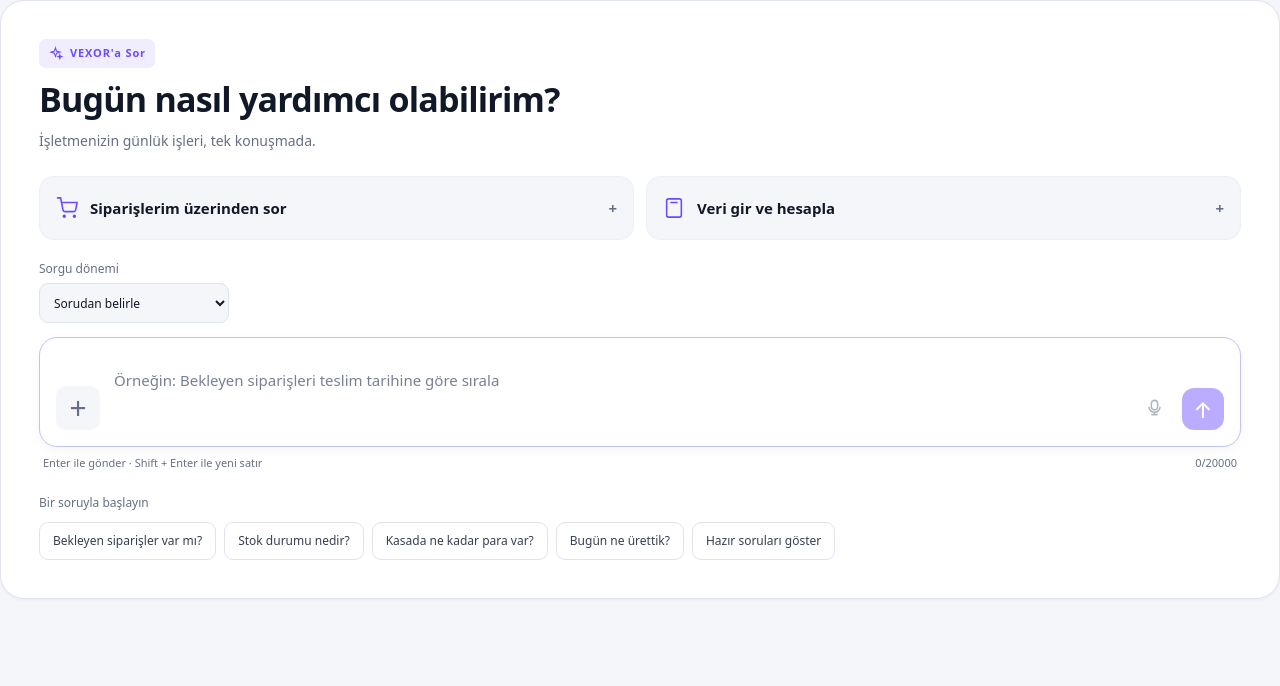
it: keeps previous answers and the conversation id across follow-up questions
Type "First question" into the text box at coordinates (617, 392), box [110,364,1124,420]
Then press Enter
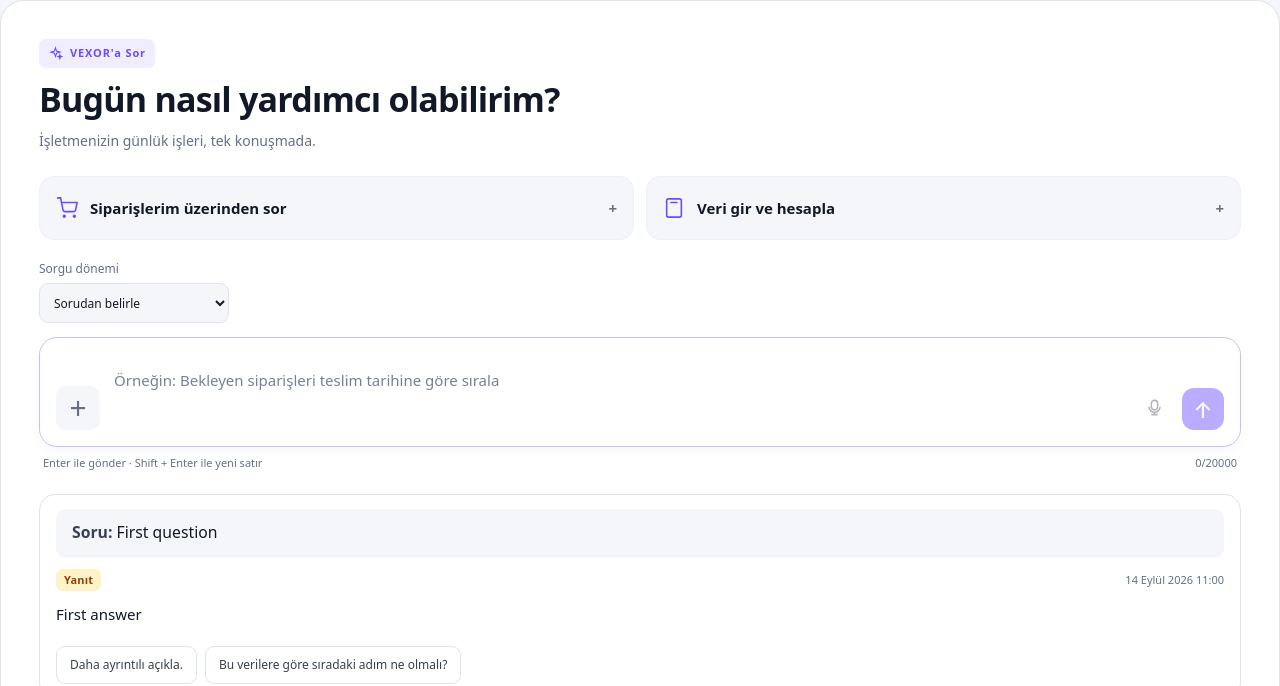
Now the text "First answer" is shown, box [56,604,142,624]
Type "Follow-up" into the text box at coordinates (617, 392), box [110,364,1124,420]
Then press Enter
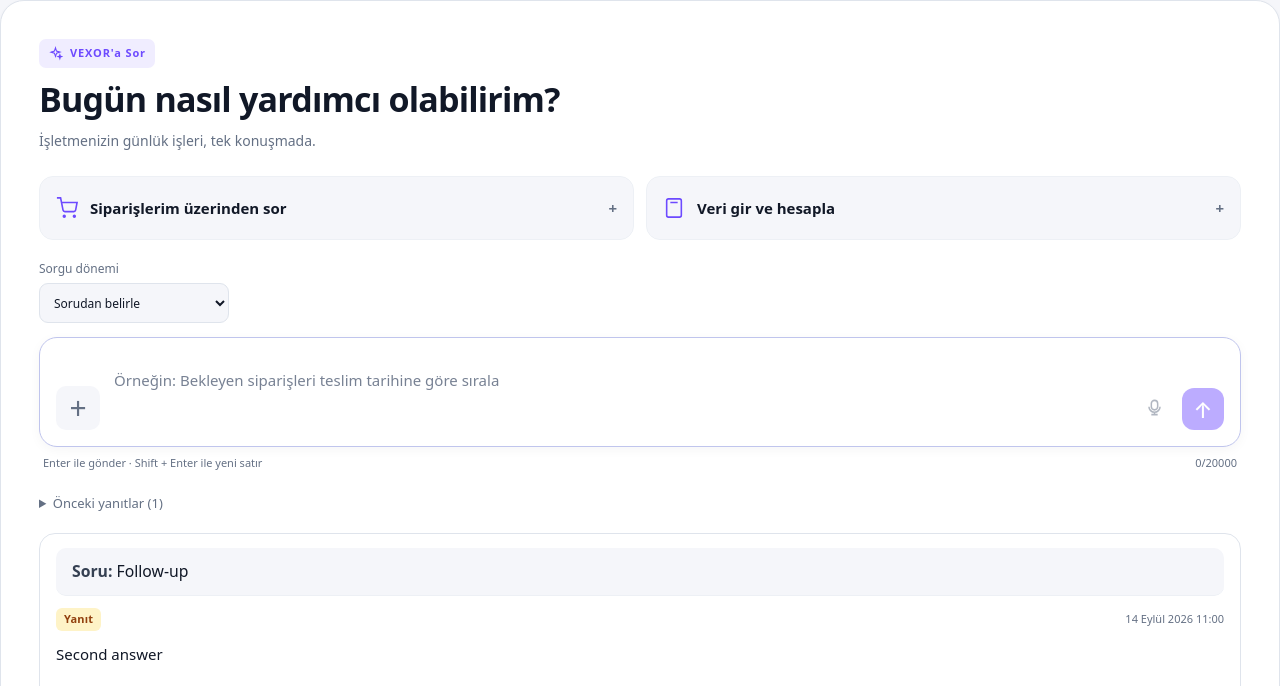
Now the text "Second answer" is shown, box [56,644,163,664]
